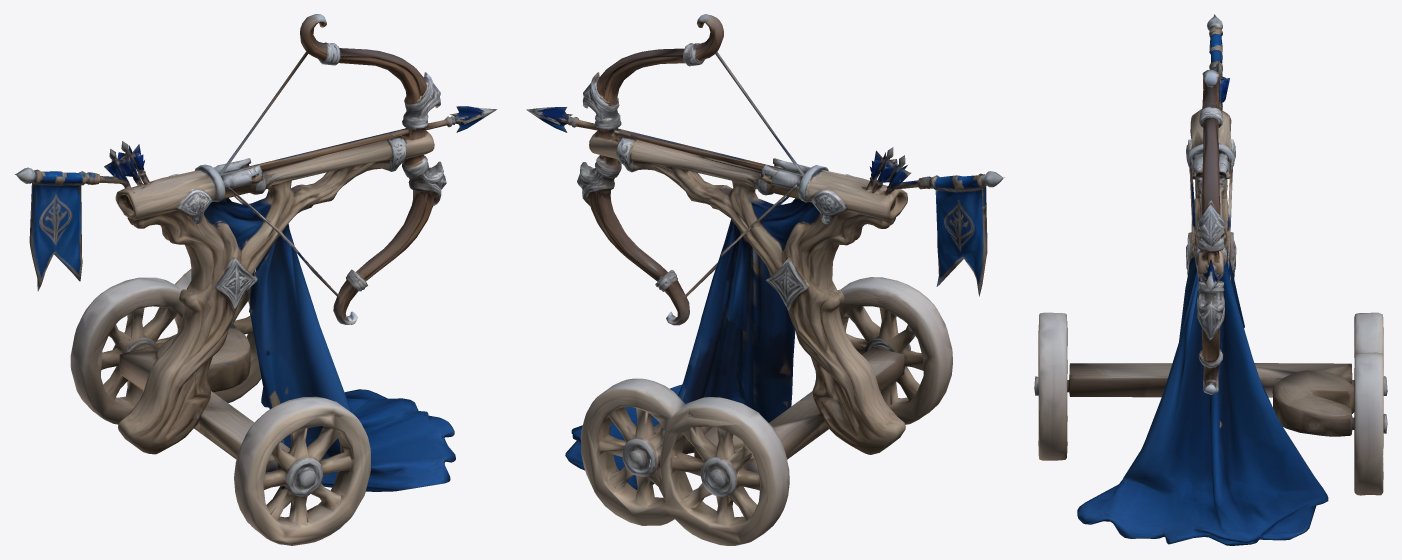
The model's file is elf_siege.glb.
The picture shows the model from 3 angles, left to right: view 1: azimuth 30°, elevation 25°; view 2: azimuth 150°, elevation 25°; view 3: azimuth 270°, elevation 25°; orthographic projection. The views are drawn at different scales.
Visible parts, largest first — view 1: node_0; view 2: node_0; view 3: node_0.
Part boxes in pixels (x1,y1,x2,y2): node_0: (14, 14, 497, 545); node_0: (526, 14, 1004, 545); node_0: (1034, 14, 1387, 545).
Bounding box in the file's own units: 1.06 × 0.9289 × 0.6963.
Materials: 1 (1 with a texture image).
